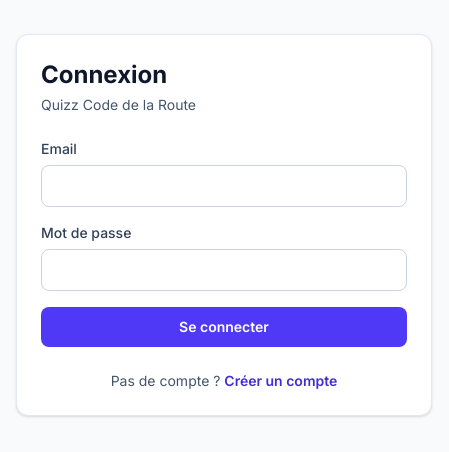
Test: LoginPage › shows an error message when login fails
Type "a@b.com" into the field labelled "Email". click: (224, 186)
box: [41, 165, 407, 207]
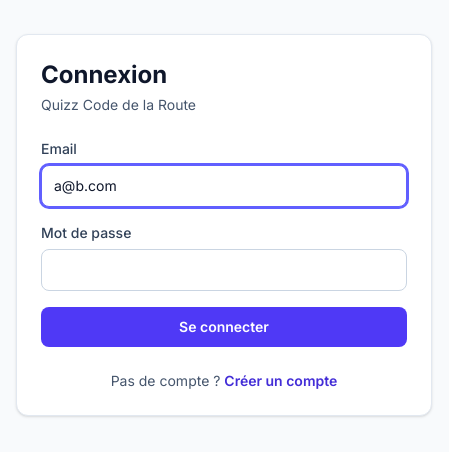
Type "wrong" into the password field labelled "Mot de passe". click: (224, 270)
box: [41, 249, 407, 291]
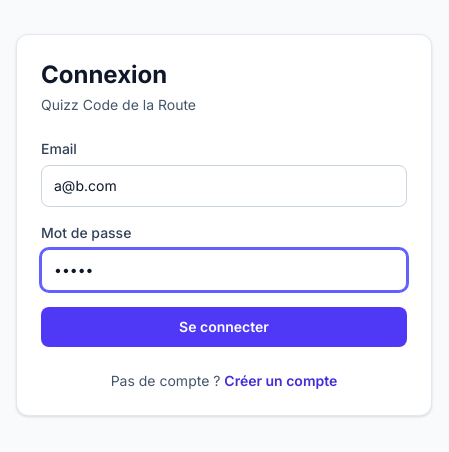
Click the button "Se connecter". click: (224, 327)
box: [41, 307, 407, 347]
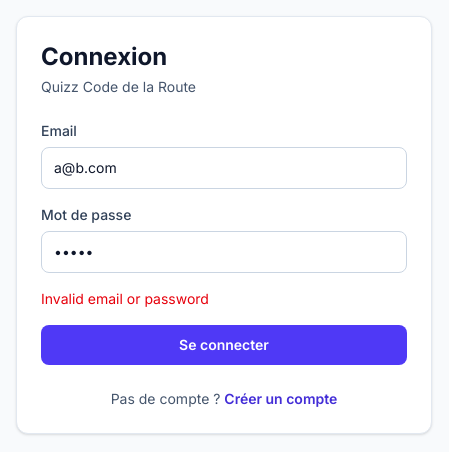
Expected: the message reads "Invalid email or password", [41, 290, 209, 307]
